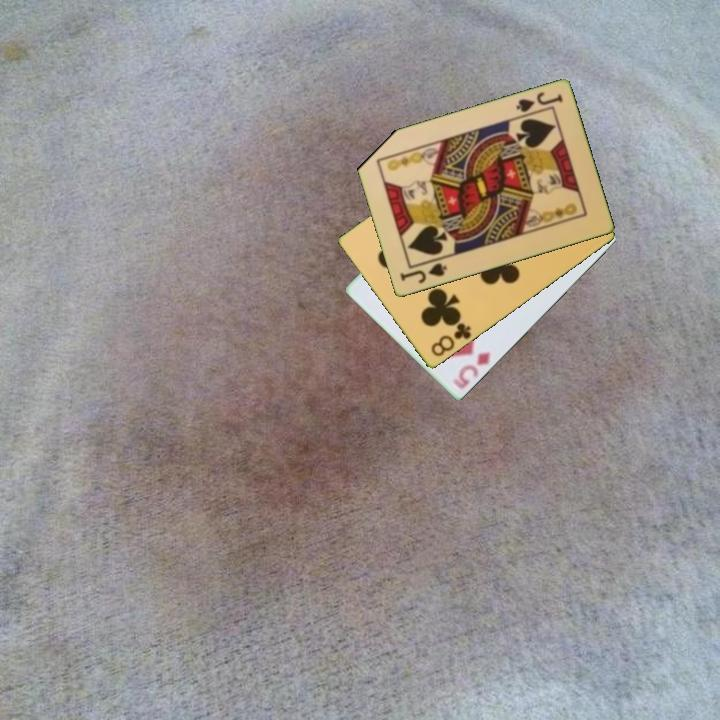5d: (449, 348, 494, 393)
8c: (427, 317, 474, 360)
Js: (396, 260, 450, 287), (512, 89, 565, 115)
